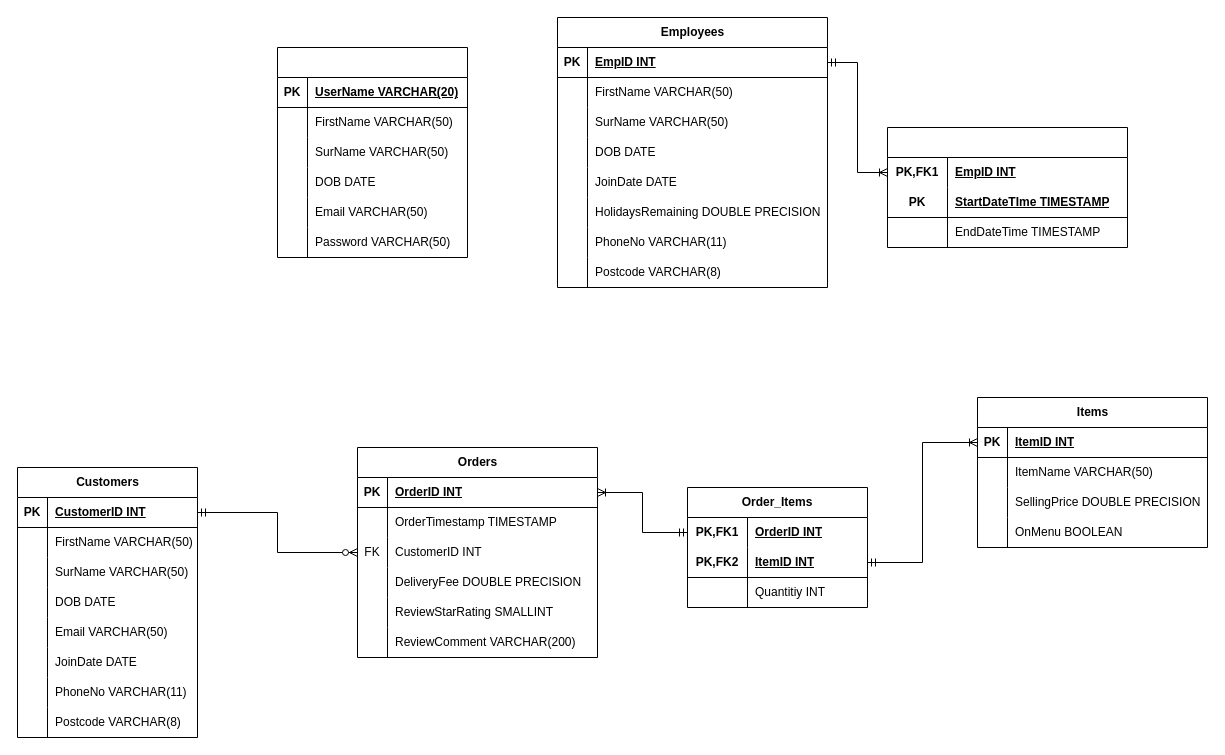
This 1225x755 diagram has some shape labels left out. Here are the shapes that lost their labels. From the top down, the box of each, then its label:
(276, 46, 468, 258): Admin_Accounts
(886, 126, 1128, 248): Schedule
